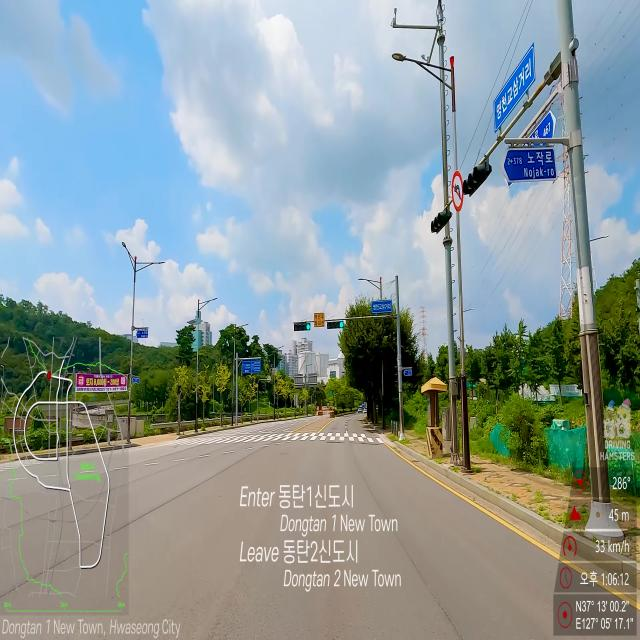Green Light: (306, 323, 310, 330), (339, 321, 343, 328)
